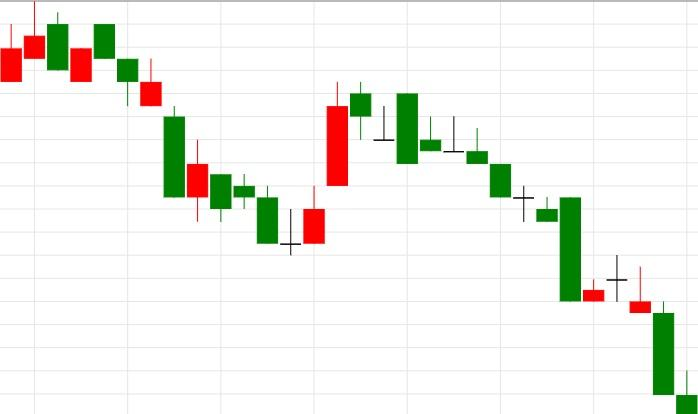morning_star_rise: (93, 23, 326, 256)
